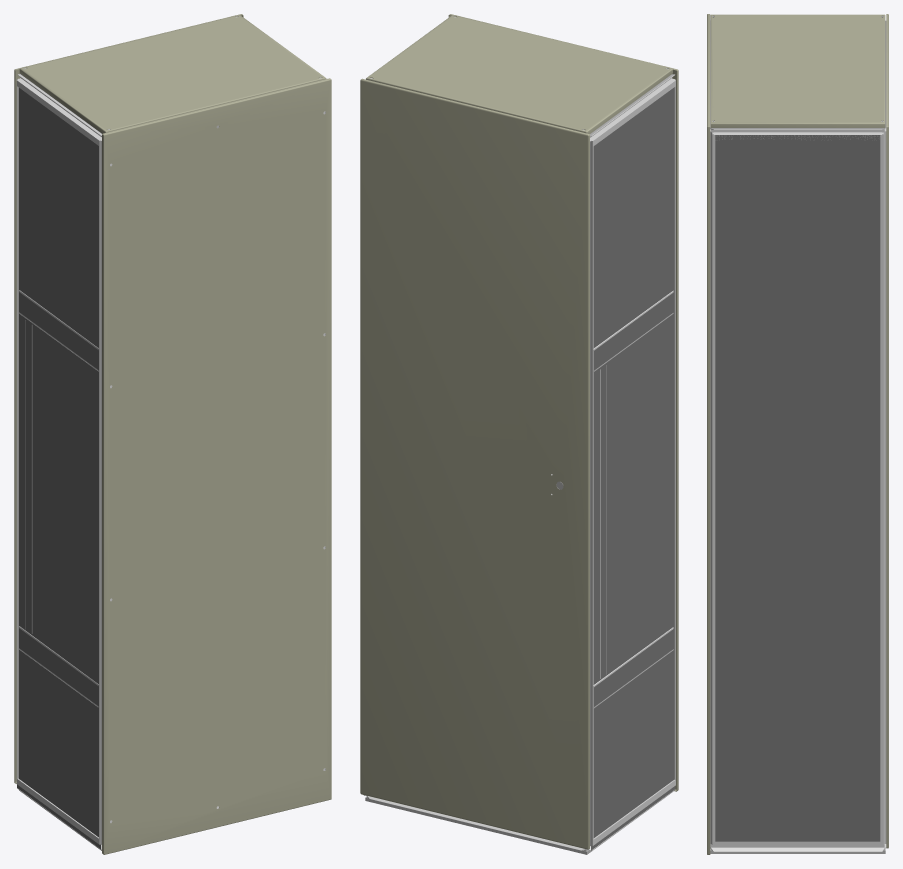
File: stage2_4.glb
The picture shows the model from 3 angles, left to right: view 1: azimuth 30°, elevation 25°; view 2: azimuth 150°, elevation 25°; view 3: azimuth 270°, elevation 25°; orthographic projection.
Parts seen in each view (by area): view 1: Component#18, object 2, Component#26, Component#21 (×2), asm0001106, Component#9 (×2), Component#19; view 2: asm0001106, object 2, Component#26, Component#21 (×2), Component#9 (×2), Component#18, Component#16, Component#19; view 3: object 1, Component#26, Component#21 (×2), Component#9 (×2), Component#18, asm0001106, Component#16.
Boxes of the visible parts, x1,y1,x2,y2 form: Component#18: (102, 78, 331, 854); object 2: (17, 79, 100, 848); Component#26: (19, 15, 326, 133); Component#21 (×2): (16, 78, 112, 844); asm0001106: (14, 14, 243, 783); Component#9 (×2): (17, 16, 321, 849); Component#19: (25, 320, 32, 633); asm0001106: (360, 78, 589, 849); object 2: (591, 87, 675, 850); Component#26: (366, 15, 672, 134); Component#21 (×2): (590, 78, 675, 846); Component#9 (×2): (364, 16, 675, 851); Component#18: (448, 14, 678, 791); Component#16: (365, 791, 673, 854); Component#19: (600, 365, 606, 678); object 1: (715, 135, 880, 841); Component#26: (710, 14, 885, 127); Component#21 (×2): (710, 129, 886, 847); Component#9 (×2): (710, 16, 886, 851); Component#18: (707, 14, 710, 854); asm0001106: (886, 14, 888, 848); Component#16: (710, 848, 885, 853).
Bounding box in the file's own units: 0.6086 × 1.83 × 0.4125.
14 materials, 9 textured.
